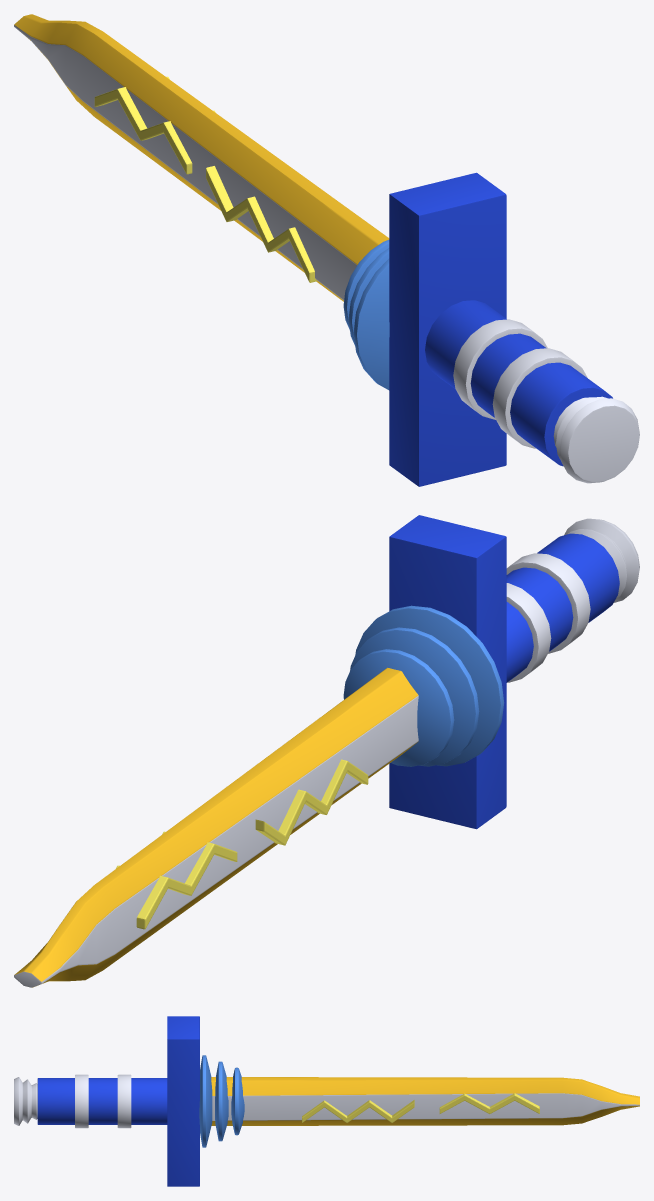
Rendered from Sword_RodsteelLongsword.glb.
3 renders of one model, top to bottom at view 1: azimuth 30°, elevation 25°; view 2: azimuth 150°, elevation 25°; view 3: azimuth 270°, elevation 25°, orthographic. The views are drawn at different scales.
Parts seen in each view (by area): view 1: Sword_RodsteelLongsword; view 2: Sword_RodsteelLongsword; view 3: Sword_RodsteelLongsword.
Part boxes in pixels (left/top/right/bottom): Sword_RodsteelLongsword: left=14, top=14, right=639, bottom=486; Sword_RodsteelLongsword: left=14, top=515, right=639, bottom=987; Sword_RodsteelLongsword: left=14, top=1016, right=639, bottom=1186.
Bounding box in the file's own units: 0.148 × 0.26 × 1.
1 material, 1 textured.
